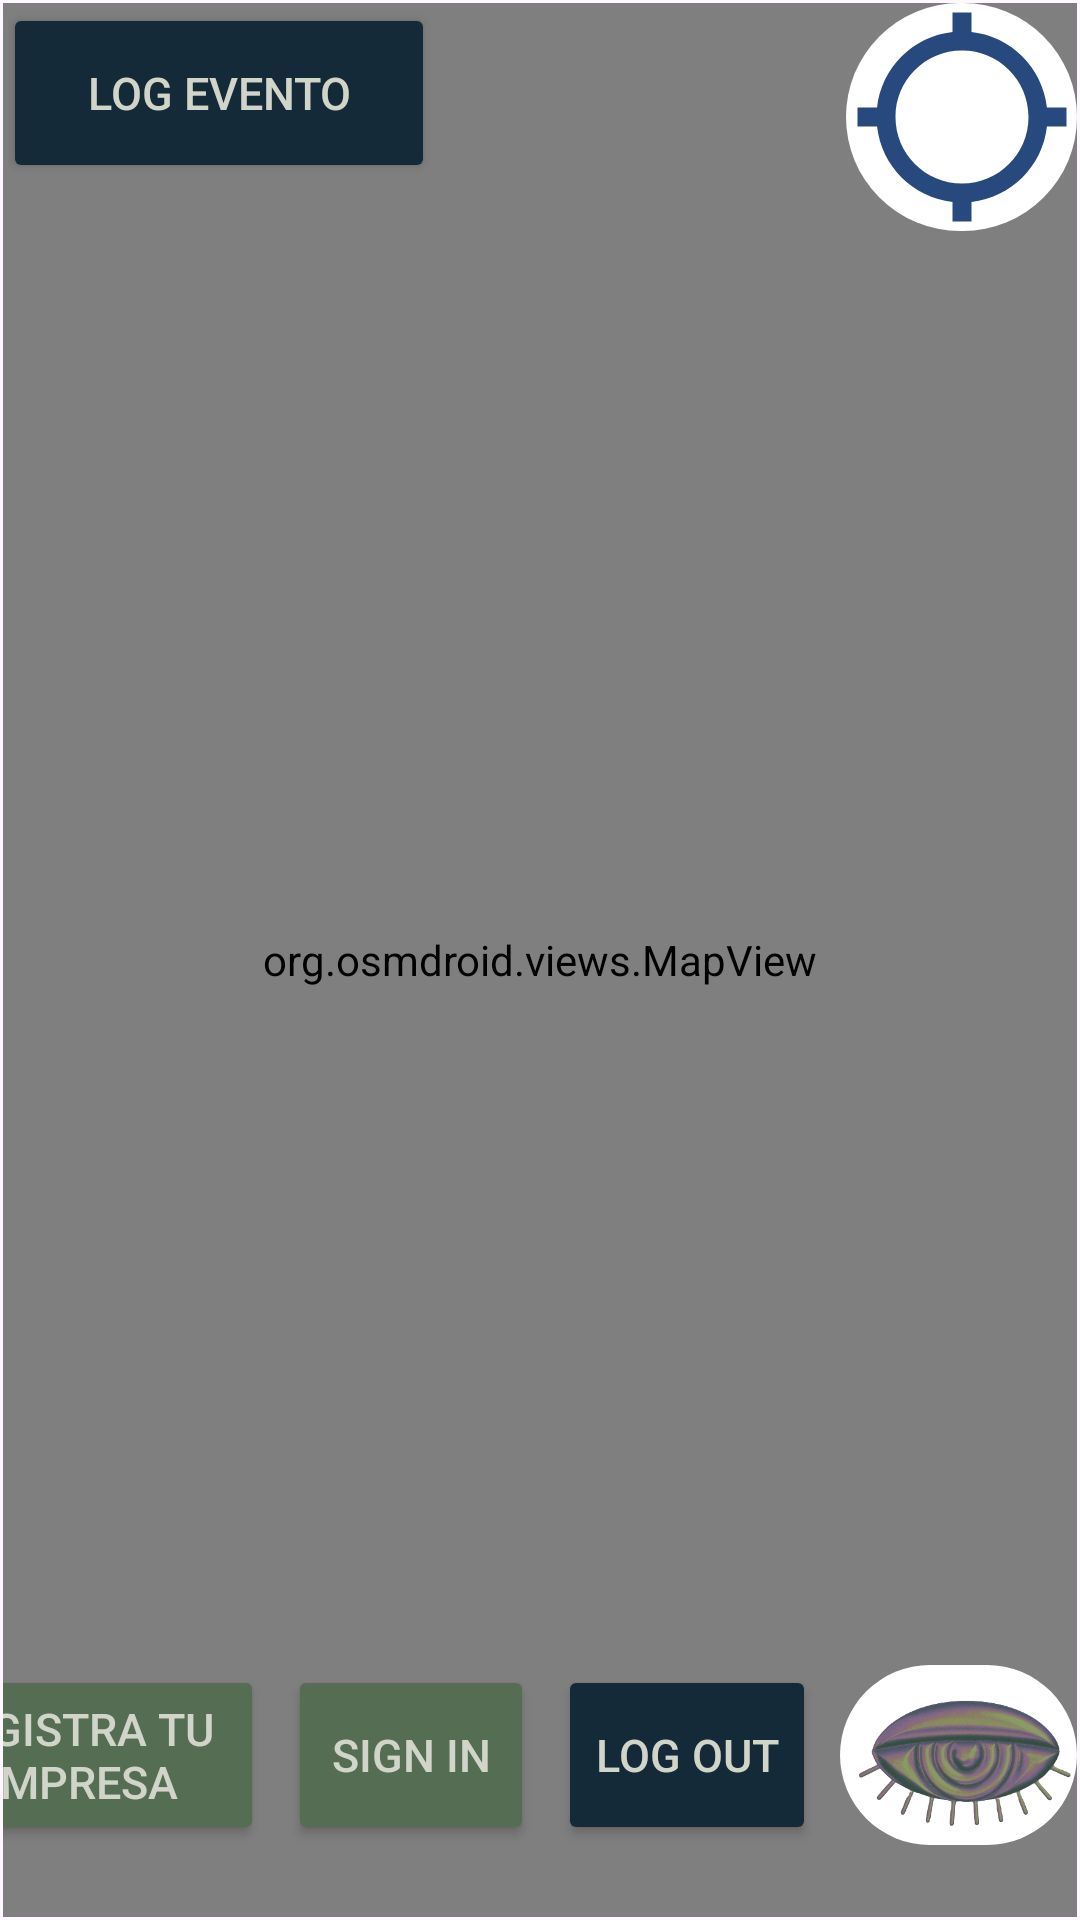

Named icons in this screenshot (1080 x 1920) and their centers, (x,y):
location searching: (961,117)
